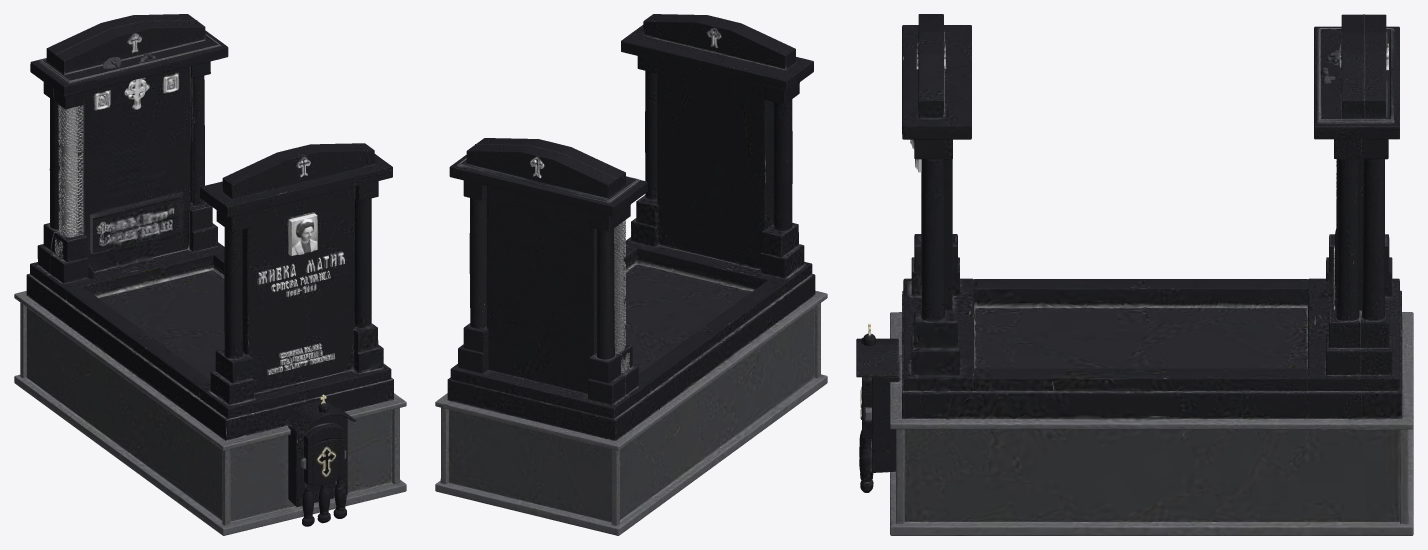
Rendered from vladan-popovic-sulja-grob.glb.
3 renders of one model, left to right at view 1: azimuth 30°, elevation 25°; view 2: azimuth 150°, elevation 25°; view 3: azimuth 270°, elevation 25°, orthographic. The views are drawn at different scales.
Size of the model in its own units: 0.908 by 1.66 by 1.9.
Materials: 1 (1 with a texture image).
